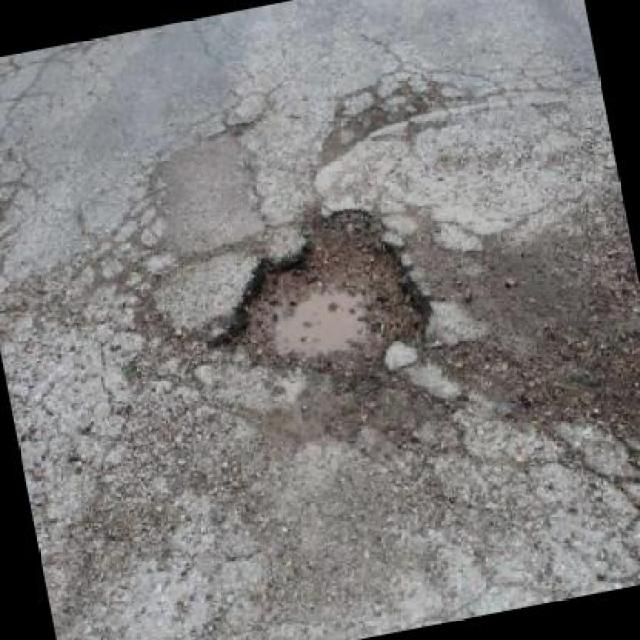pothole1: (188, 182, 450, 415)
